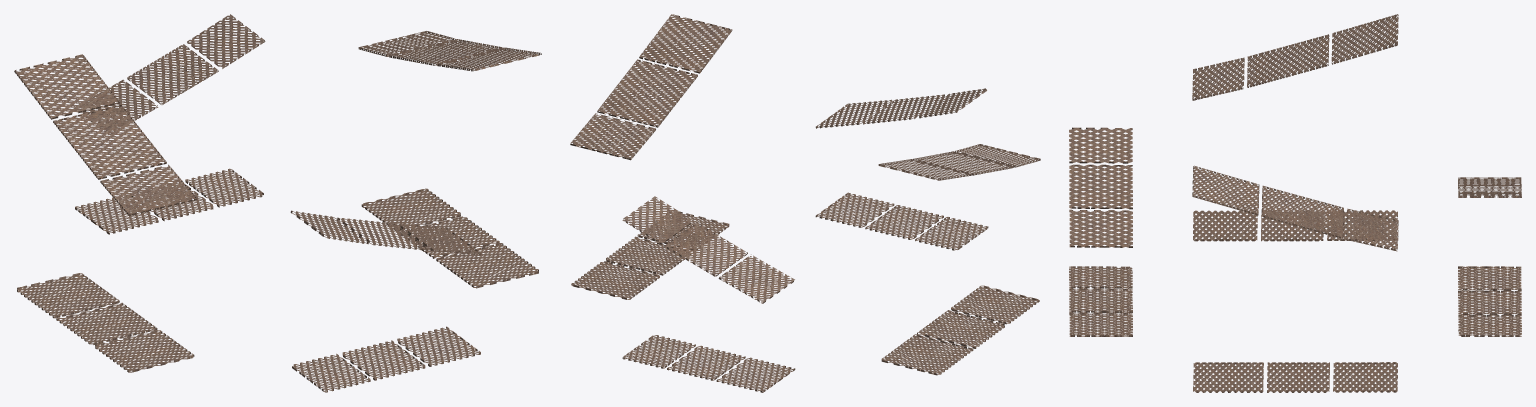
File: SM_NeoLD_11_WireMesh_Col.fbx
3 views of the same model, side by side, from view 1: azimuth 30°, elevation 25°; view 2: azimuth 150°, elevation 25°; view 3: azimuth 270°, elevation 25° (orthographic). The views are drawn at different scales.
Parts seen in each view (by area): view 1: SM_NeoLD_11_WireMesh_Col; view 2: SM_NeoLD_11_WireMesh_Col; view 3: SM_NeoLD_11_WireMesh_Col.
Part boxes in pixels (bbox=[...]): SM_NeoLD_11_WireMesh_Col: bbox=[14, 14, 541, 392]; SM_NeoLD_11_WireMesh_Col: bbox=[570, 14, 1040, 392]; SM_NeoLD_11_WireMesh_Col: bbox=[1069, 14, 1521, 392].
Bounding box in the file's own units: 1904 × 970 × 2011.
